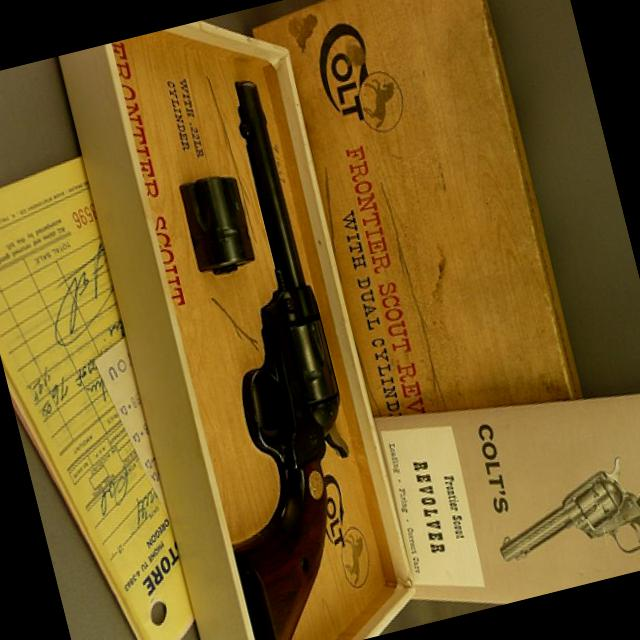handgun: (123, 74, 398, 639)
